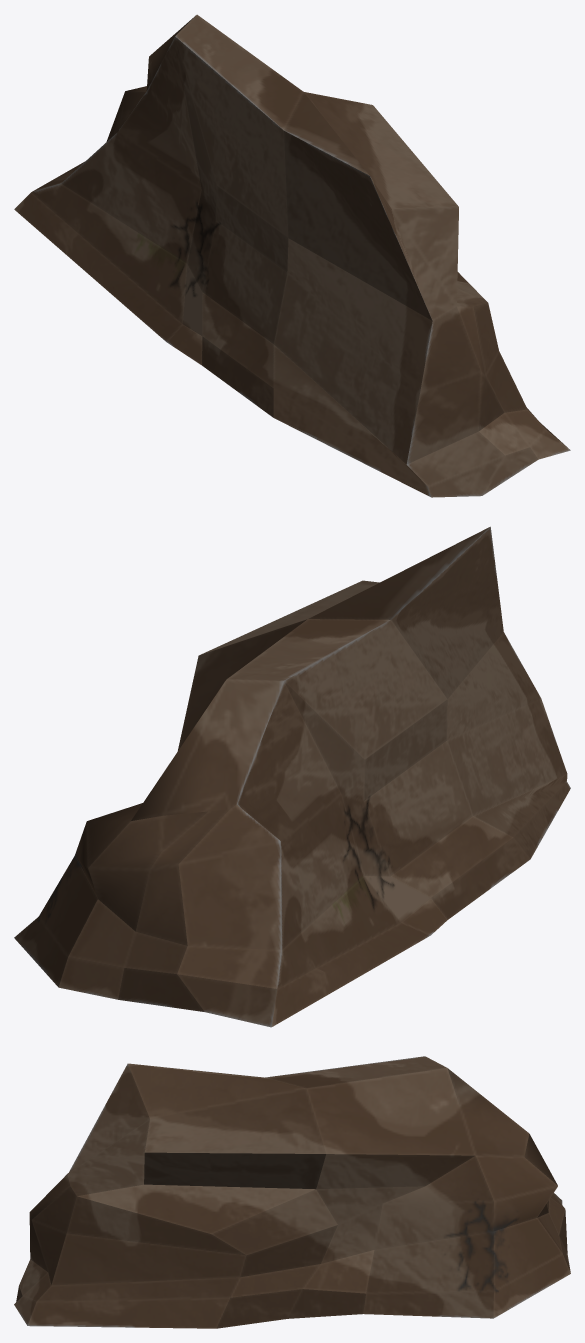
The model's file is Mountain1.fbx.
3 views of the same model, one above another, from view 1: azimuth 30°, elevation 25°; view 2: azimuth 150°, elevation 25°; view 3: azimuth 270°, elevation 25° (orthographic). The views are drawn at different scales.
Parts seen in each view (by area): view 1: polySurface7; view 2: polySurface7; view 3: polySurface7.
Part boxes in pixels (x1,y1,x2,y2): polySurface7: (14,14,570,497); polySurface7: (14,526,570,1027); polySurface7: (14,1056,570,1328).
Bounding box in the file's own units: 2837 × 2934 × 6474.
